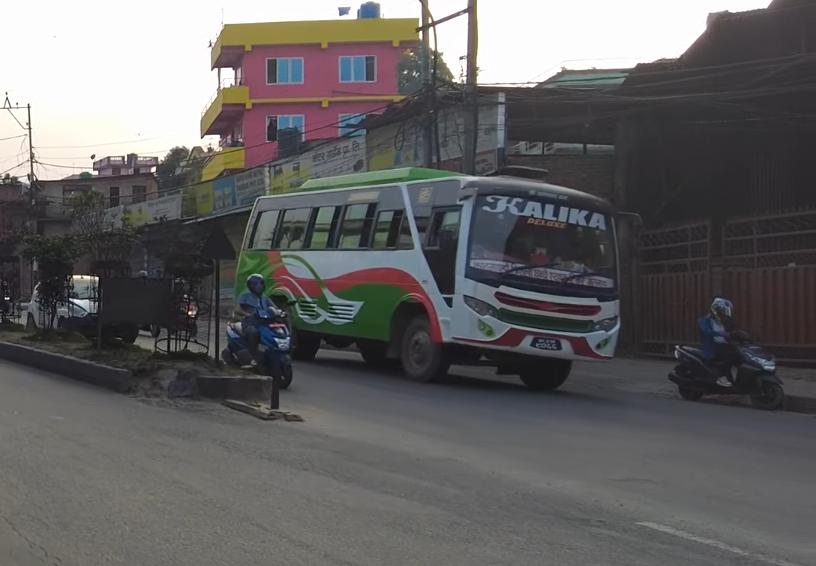bus: (224, 159, 637, 381)
scooter: (673, 325, 784, 411), (226, 292, 297, 391)
